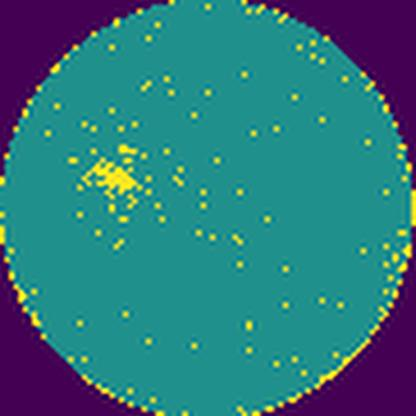Loc: (74, 160, 143, 198)
